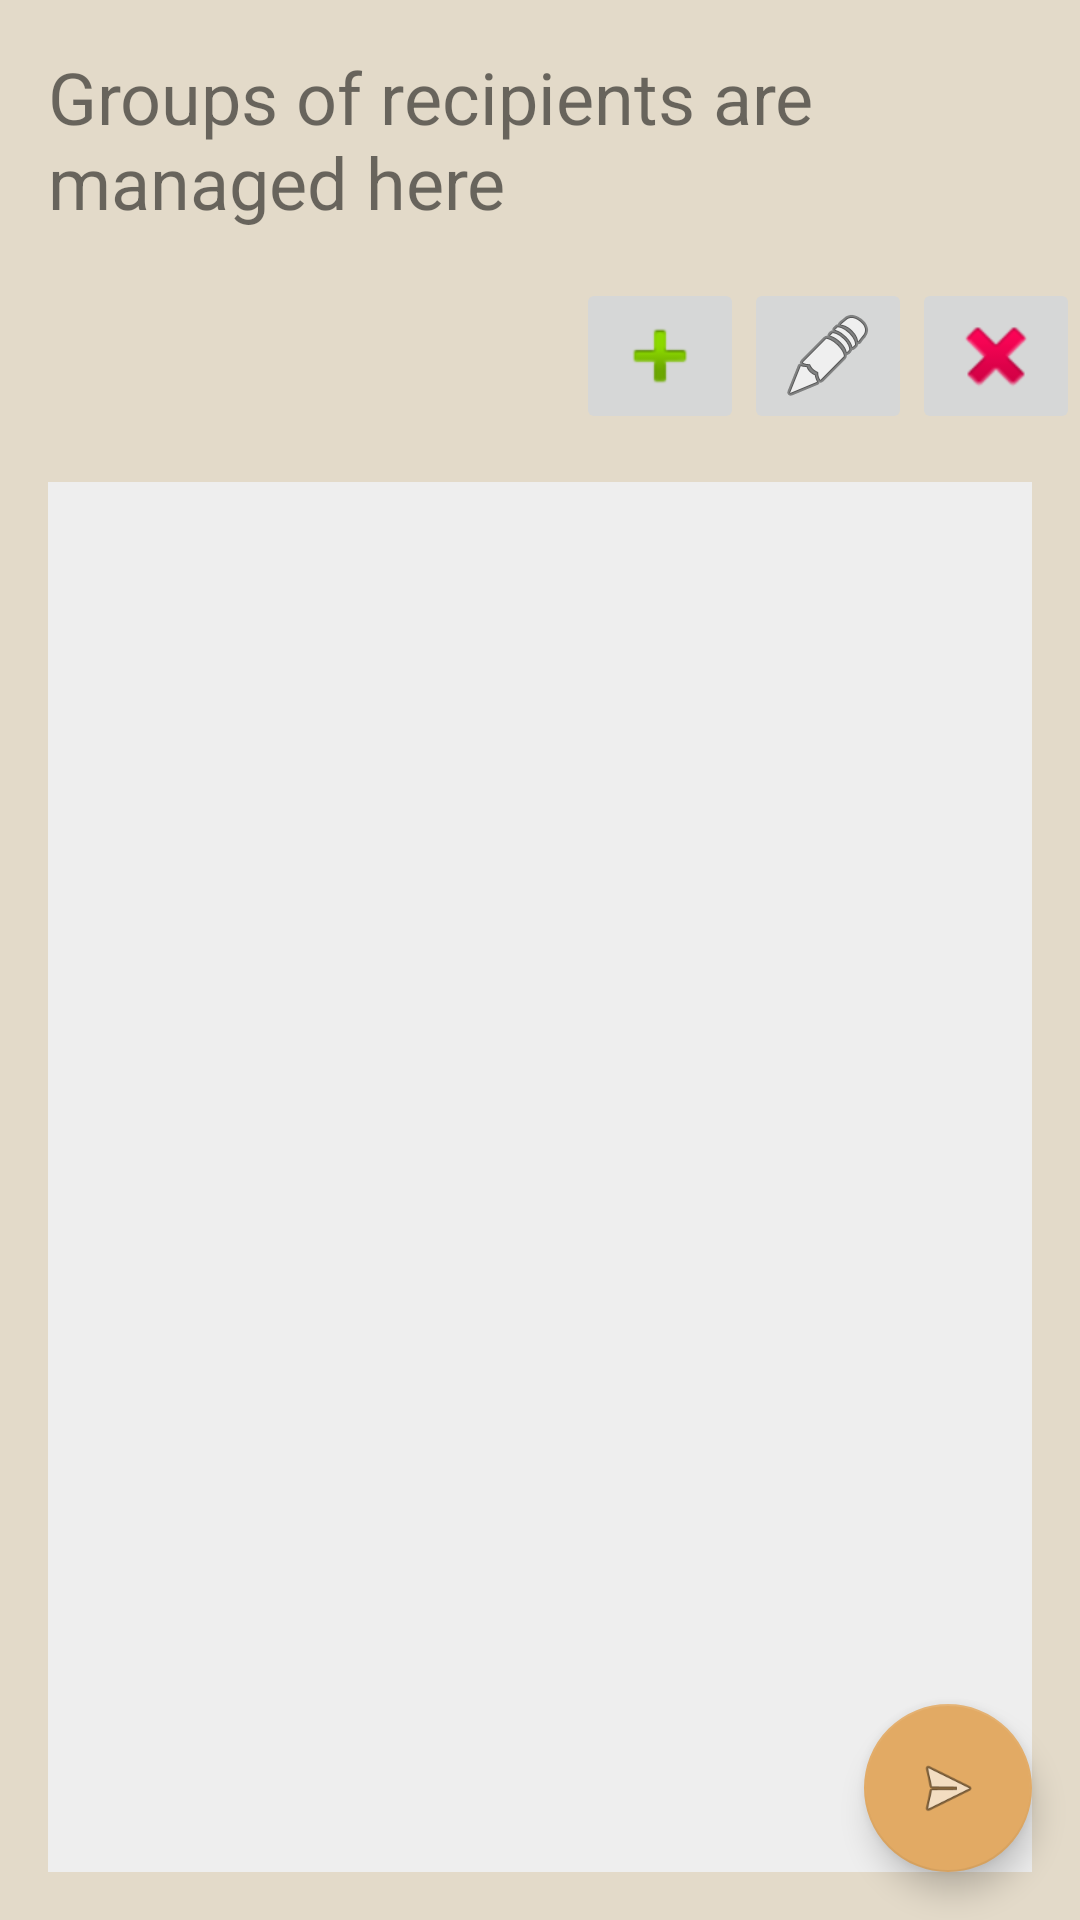

Point at icon controls on the screen. Image size 1080 × 1920, points as (x,y).
delete: (996,356)
edit: (828,356)
send: (948,1788)
